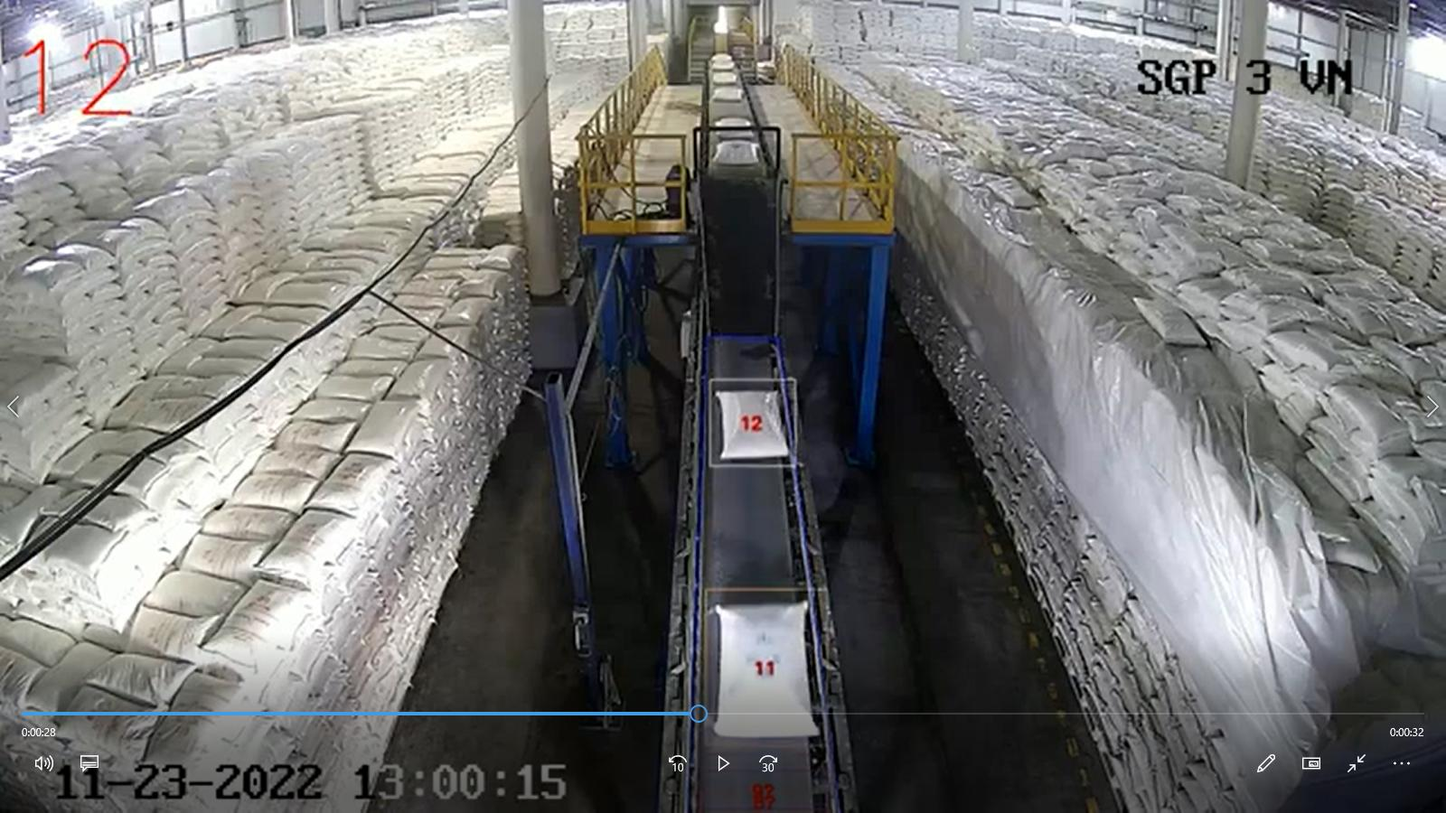rice-bag: (708, 603, 818, 738), (716, 390, 786, 460)
